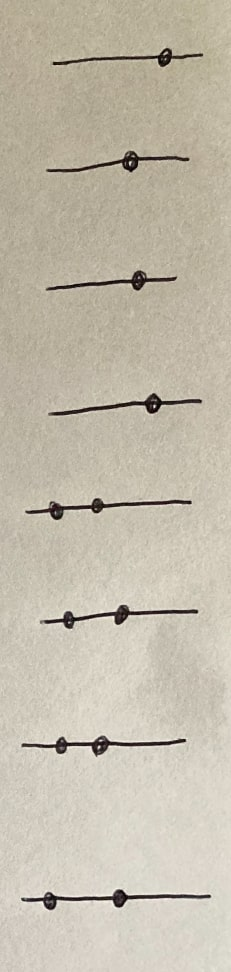slider: (18, 875, 214, 920), (15, 722, 197, 768), (35, 592, 208, 633), (41, 143, 197, 187), (22, 487, 198, 525), (46, 43, 213, 82), (41, 260, 182, 301)
